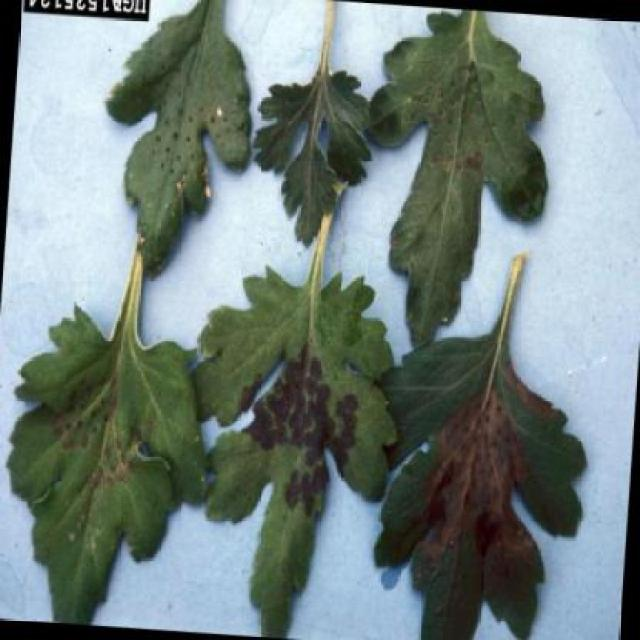Tomato leaf bacterial spot: (170, 256, 416, 638), (0, 252, 232, 629), (337, 19, 568, 378), (72, 1, 263, 312), (420, 384, 552, 608)
